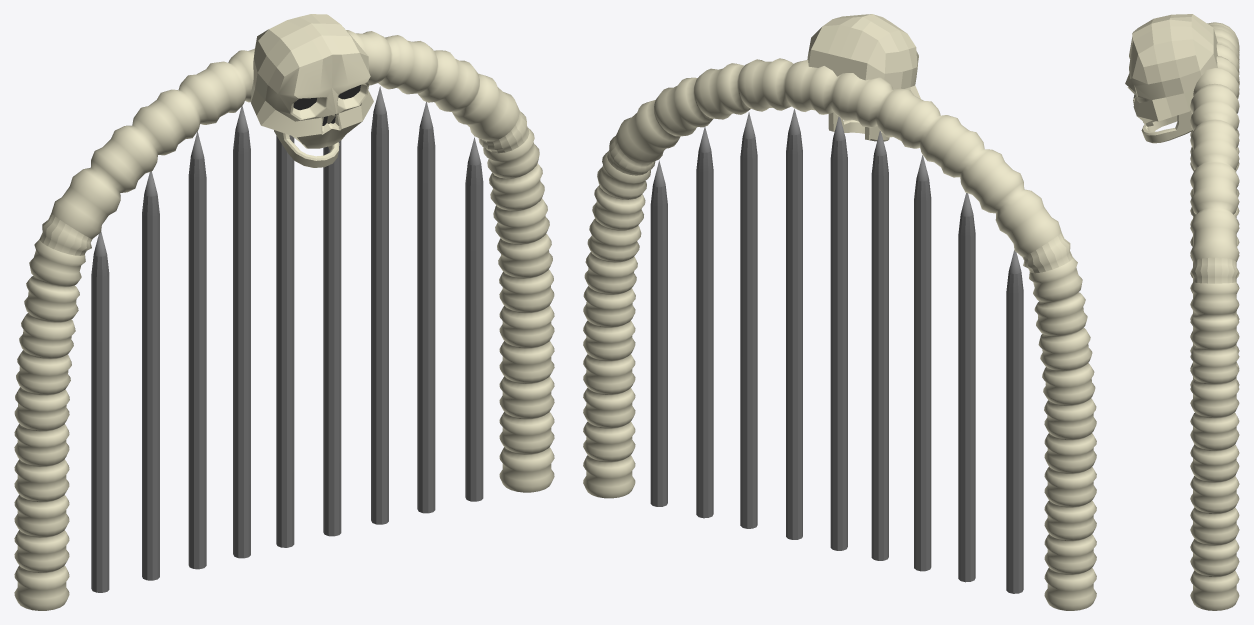
File: Puerta con craneo.fbx
3 views of the same model, side by side, from view 1: azimuth 30°, elevation 25°; view 2: azimuth 150°, elevation 25°; view 3: azimuth 270°, elevation 25° (orthographic). The views are drawn at different scales.
Parts seen in each view (by area): view 1: Esc_Puerta:polySurface42; view 2: Esc_Puerta:polySurface42; view 3: Esc_Puerta:polySurface42.
Part boxes in pixels (bbox=[...]): Esc_Puerta:polySurface42: bbox=[14, 14, 554, 610]; Esc_Puerta:polySurface42: bbox=[583, 14, 1096, 610]; Esc_Puerta:polySurface42: bbox=[1125, 14, 1239, 610].
Size of the model in its own units: 1163 by 1124 by 244.
